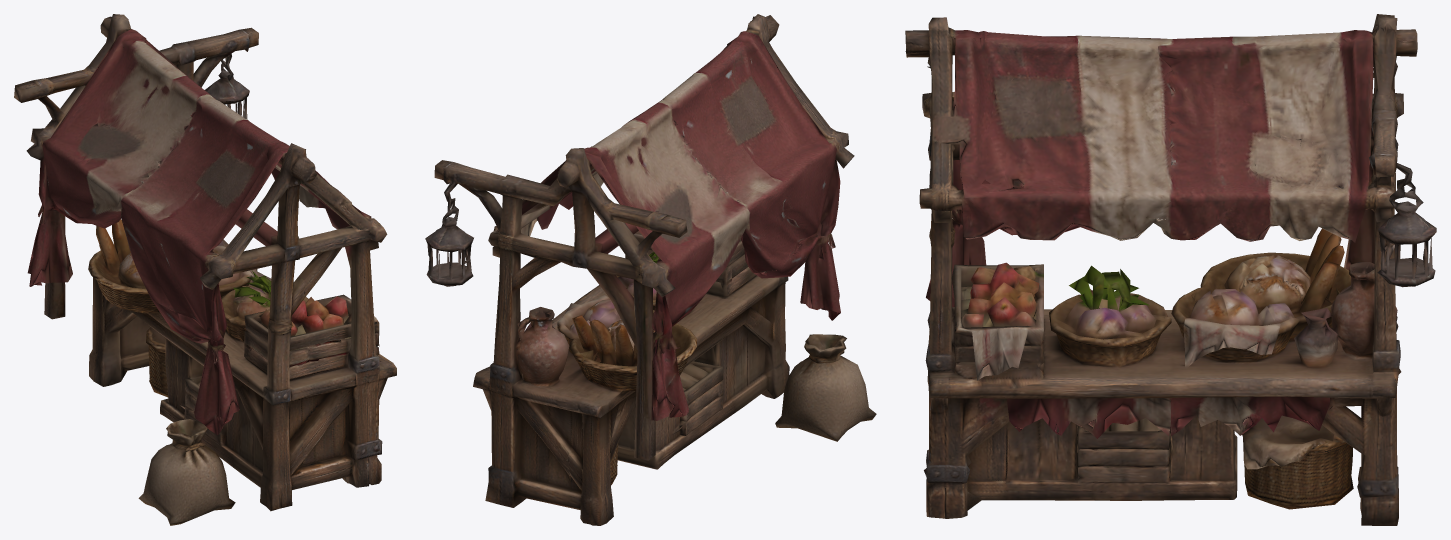
Rendered from market_stall.glb.
3 renders of one model, left to right at view 1: azimuth 30°, elevation 25°; view 2: azimuth 150°, elevation 25°; view 3: azimuth 270°, elevation 25°, orthographic. The views are drawn at different scales.
Visible parts, largest first — view 1: tripo_node_a6d4de9d-56a9-49d2-9f0b-16c3507aab60; view 2: tripo_node_a6d4de9d-56a9-49d2-9f0b-16c3507aab60; view 3: tripo_node_a6d4de9d-56a9-49d2-9f0b-16c3507aab60.
Boxes of the visible parts, x1=… form: tripo_node_a6d4de9d-56a9-49d2-9f0b-16c3507aab60: x1=14, y1=14, x2=396, y2=525; tripo_node_a6d4de9d-56a9-49d2-9f0b-16c3507aab60: x1=425, y1=14, x2=876, y2=525; tripo_node_a6d4de9d-56a9-49d2-9f0b-16c3507aab60: x1=905, y1=14, x2=1436, y2=525.
Bounding box in the file's own units: 0.6966 × 0.9253 × 0.9786.
Materials: 1 (1 with a texture image).
